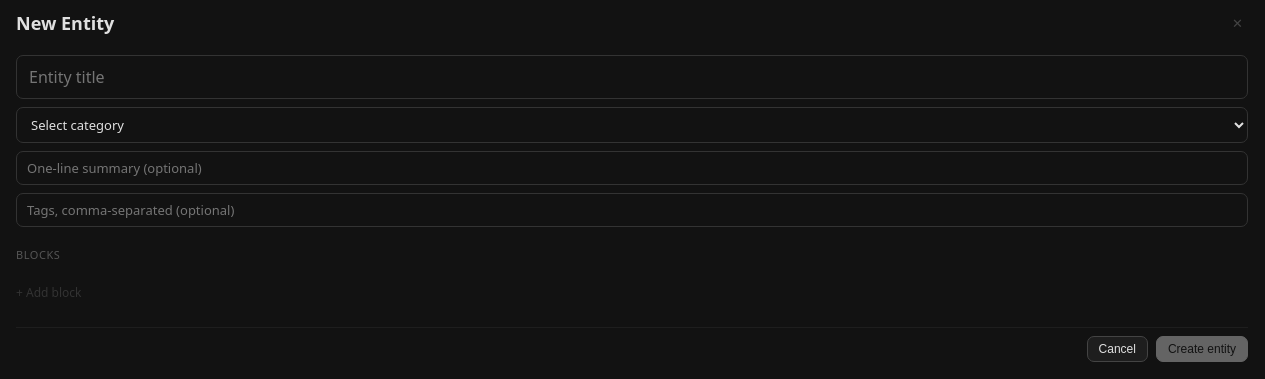
Test case: EntityEditor tag suggestions › chooses with the arrow keys and Enter, tracking the active option in ARIA
In the dropdown with placeholder "Tags, comma-separated (optional)": x=632, y=210 x1=16 y1=193 x2=1248 y2=227, type "alpha, ca"
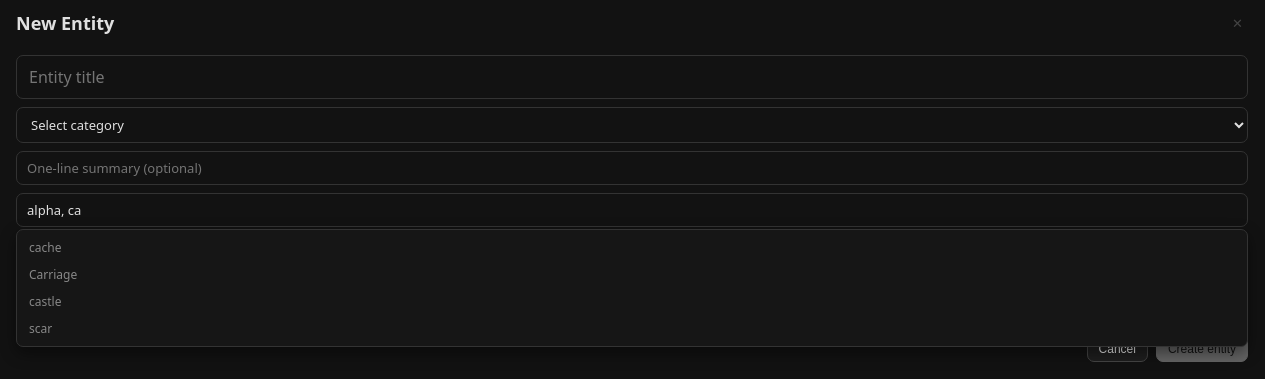
Press ArrowDown in the 2nd dropdown, box x1=16 y1=193 x2=1248 y2=227
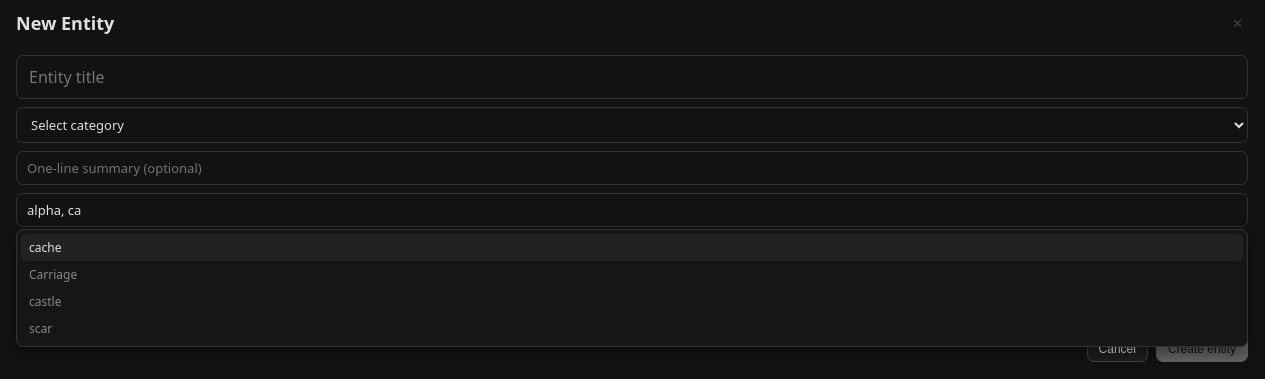
Press ArrowDown in the 2nd dropdown, box x1=16 y1=193 x2=1248 y2=227
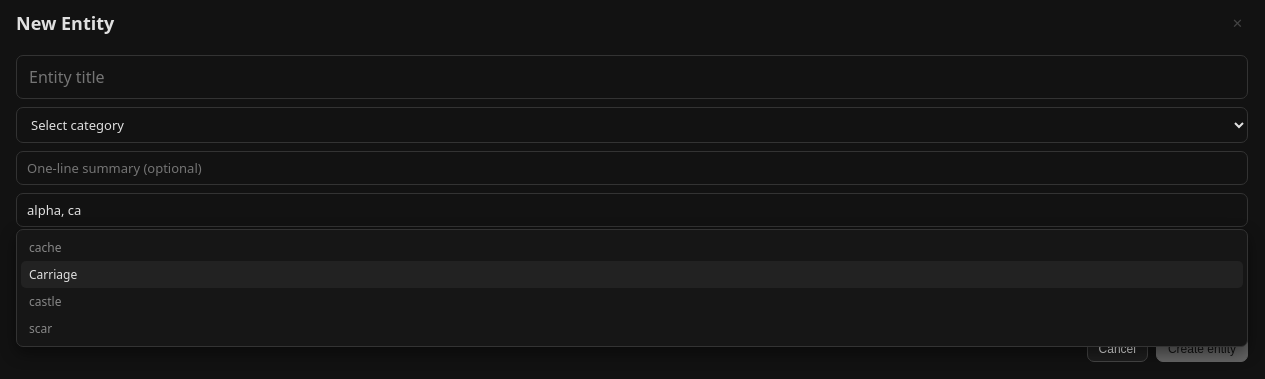
Press ArrowUp in the 2nd dropdown, box x1=16 y1=193 x2=1248 y2=227
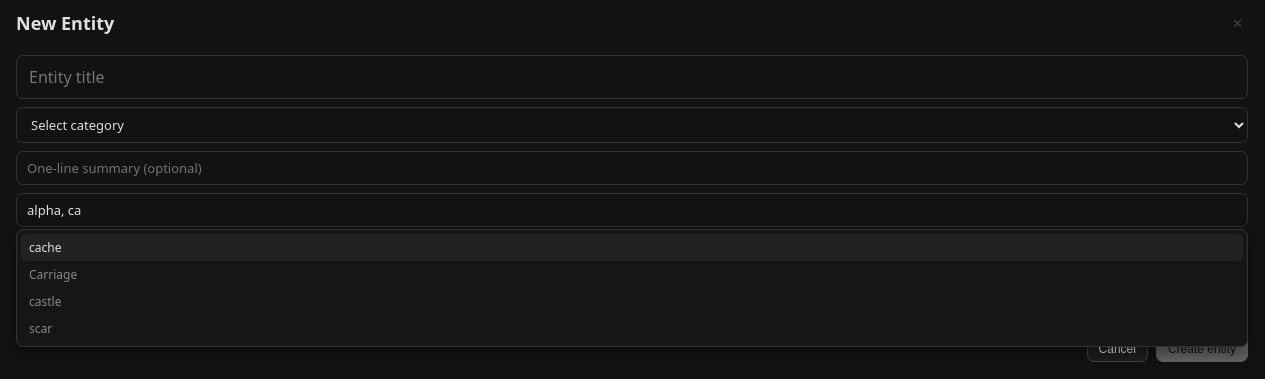
Now the option "cache" is shown, box x1=21 y1=234 x2=1243 y2=261
Press Enter in the 2nd dropdown, box x1=16 y1=193 x2=1248 y2=227
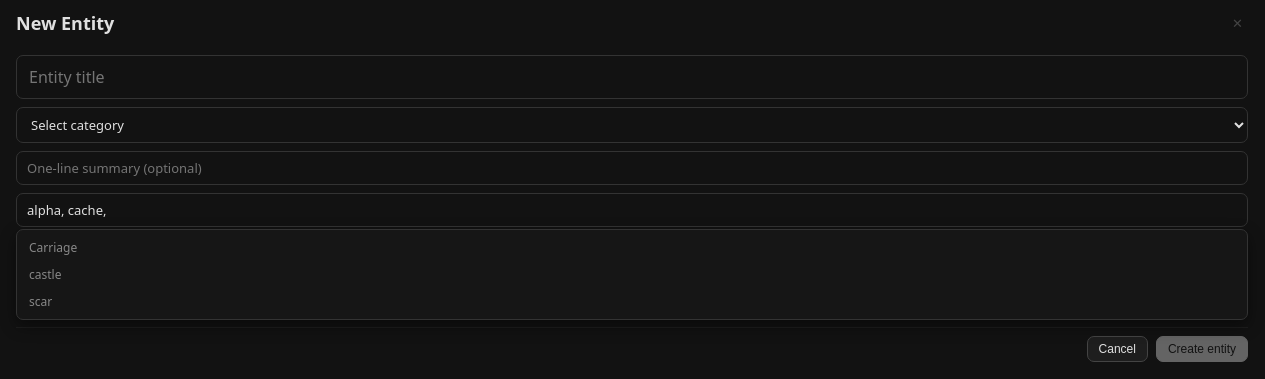
Now the 2nd dropdown holds "alpha, cache, ", box x1=16 y1=193 x2=1248 y2=227
